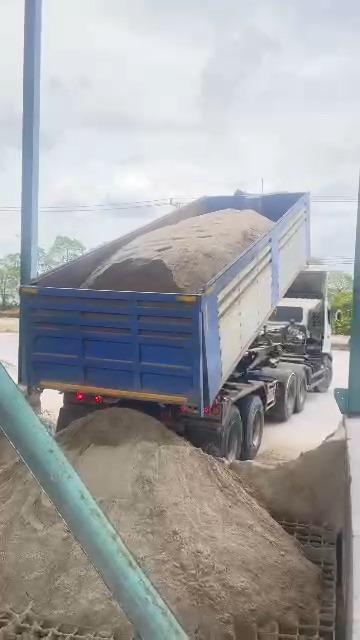sand: (58, 408, 318, 639), (0, 462, 130, 637), (82, 209, 273, 292), (231, 426, 347, 529), (0, 430, 14, 466)
